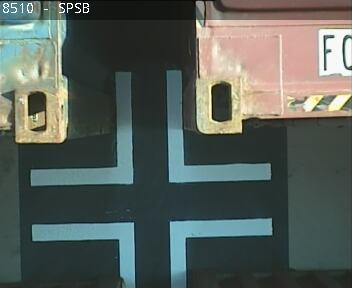groundmarker_1: (29, 70, 270, 187), (31, 217, 271, 288)
